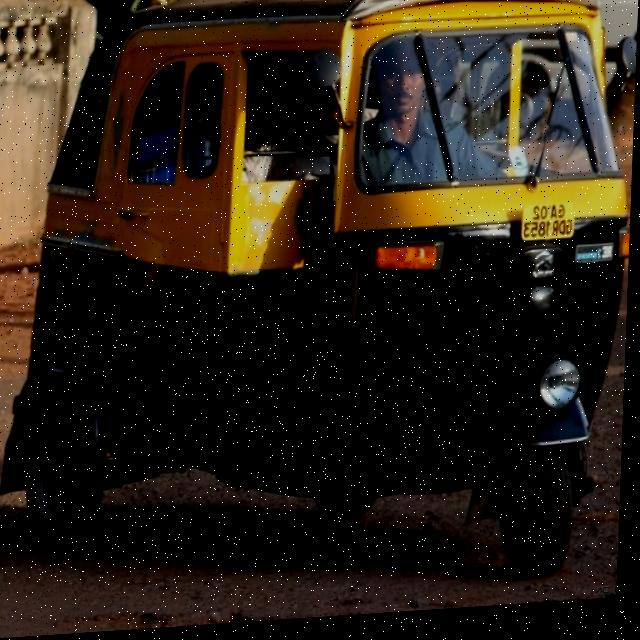plate: (515, 201, 581, 260)
